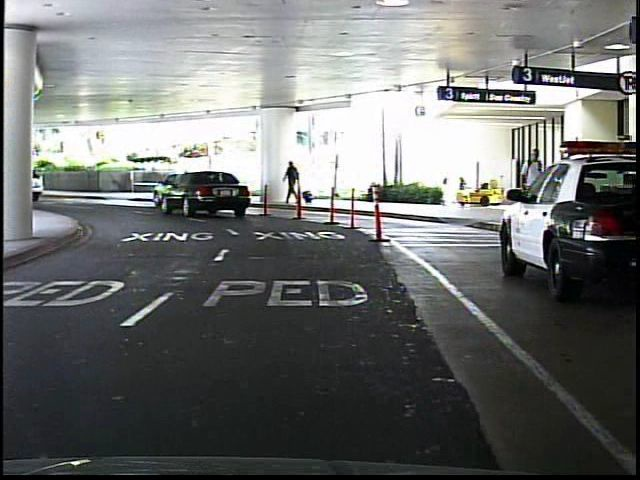person: (518, 143, 546, 232), (280, 159, 308, 209)
